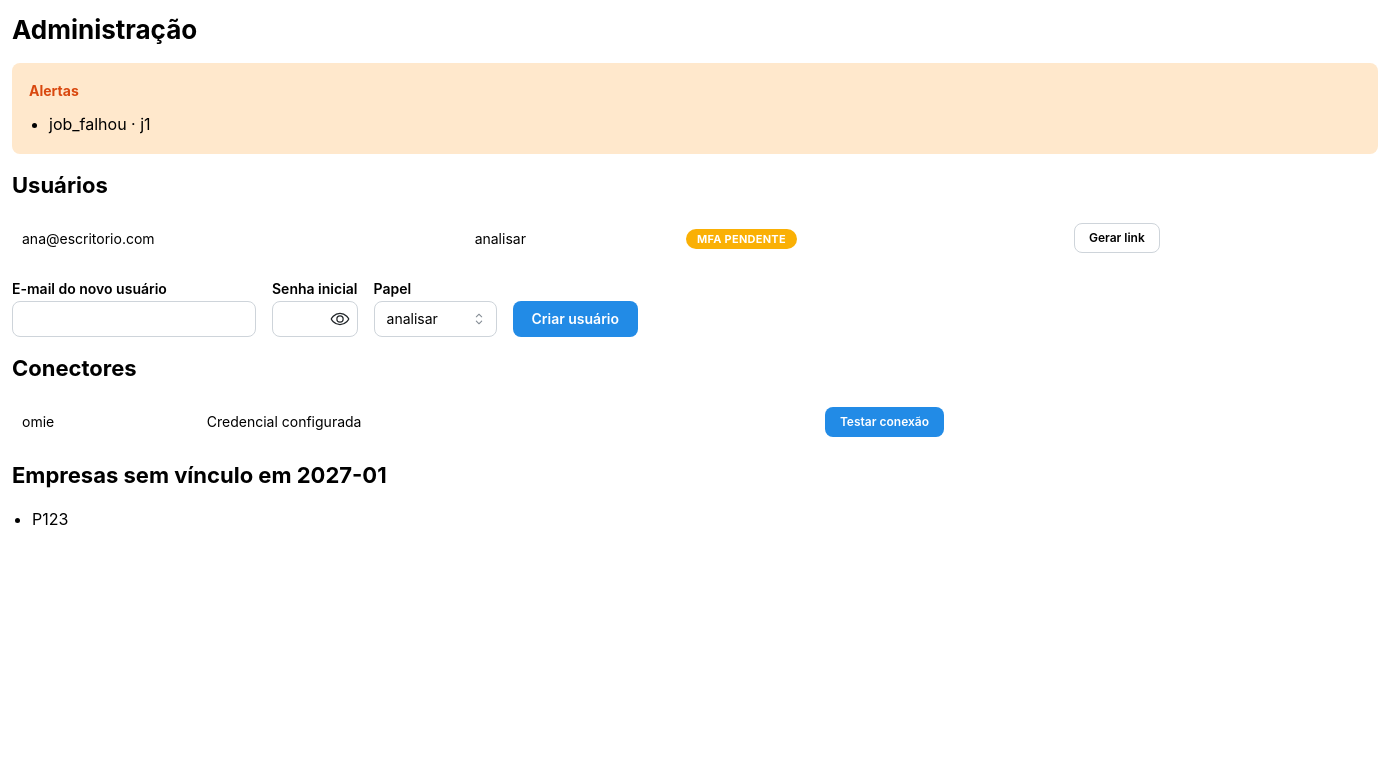
Scenario: administração › gera link de redefinição
Click the button "Gerar link": (1117, 238) top-left (1074, 223), bottom-right (1160, 253)
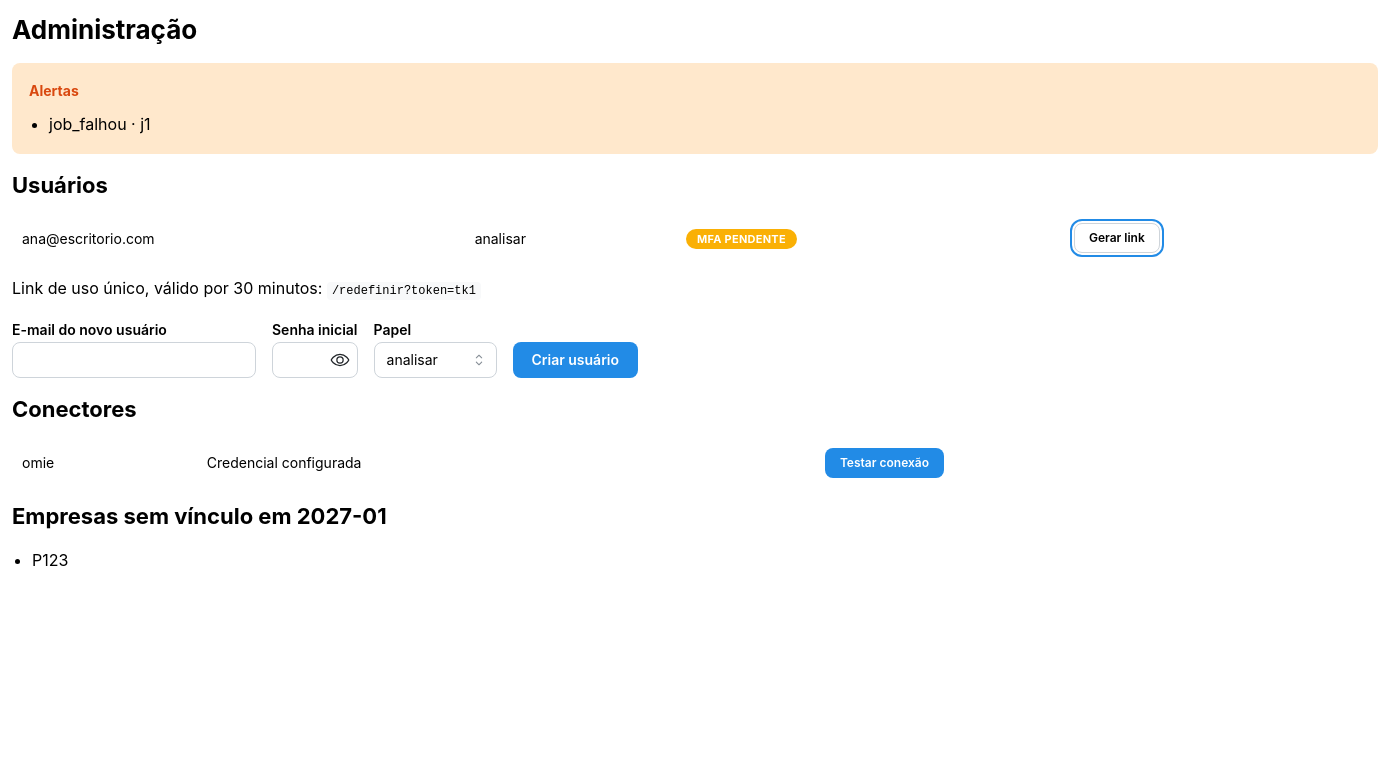
Result: the text "/redefinir?token=tk1" is shown at top-left (327, 282), bottom-right (481, 300)
